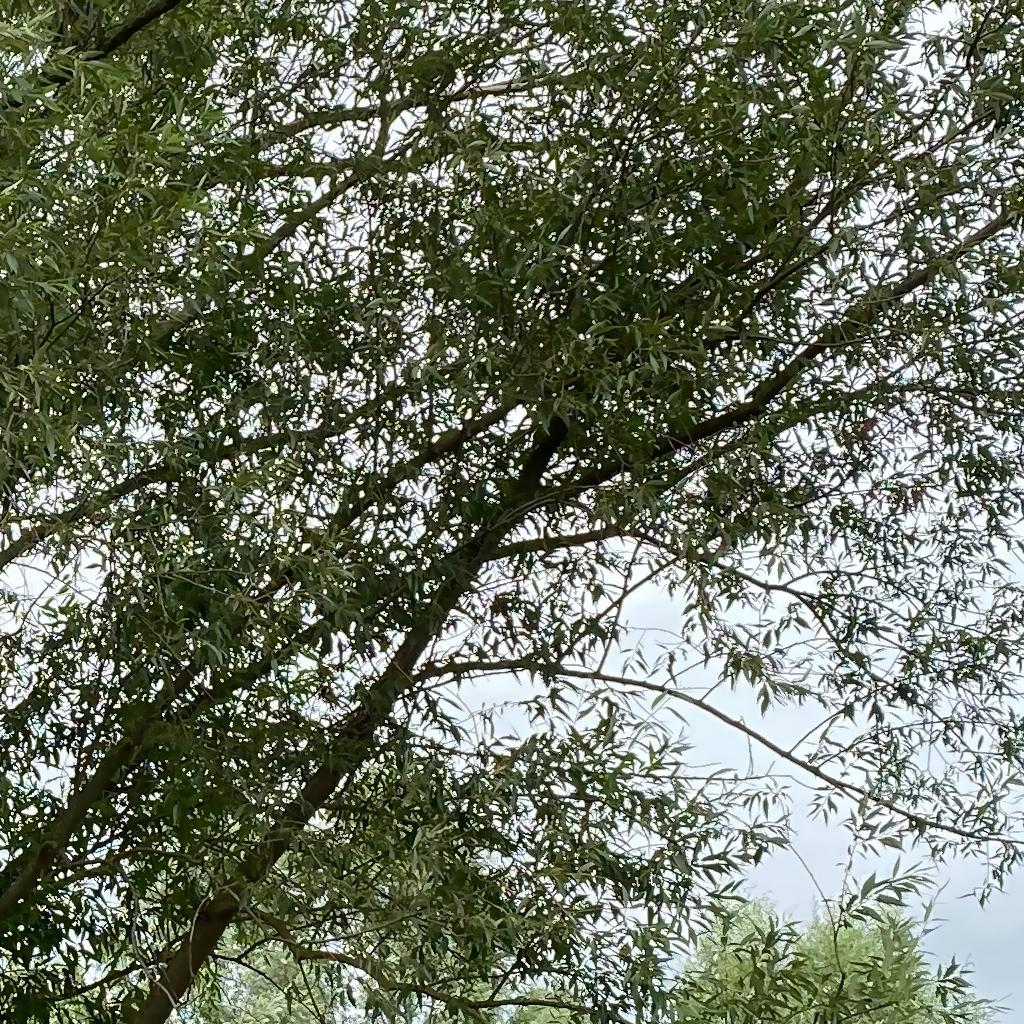tree: (1, 1, 1023, 1023), (1, 766, 996, 1024)
